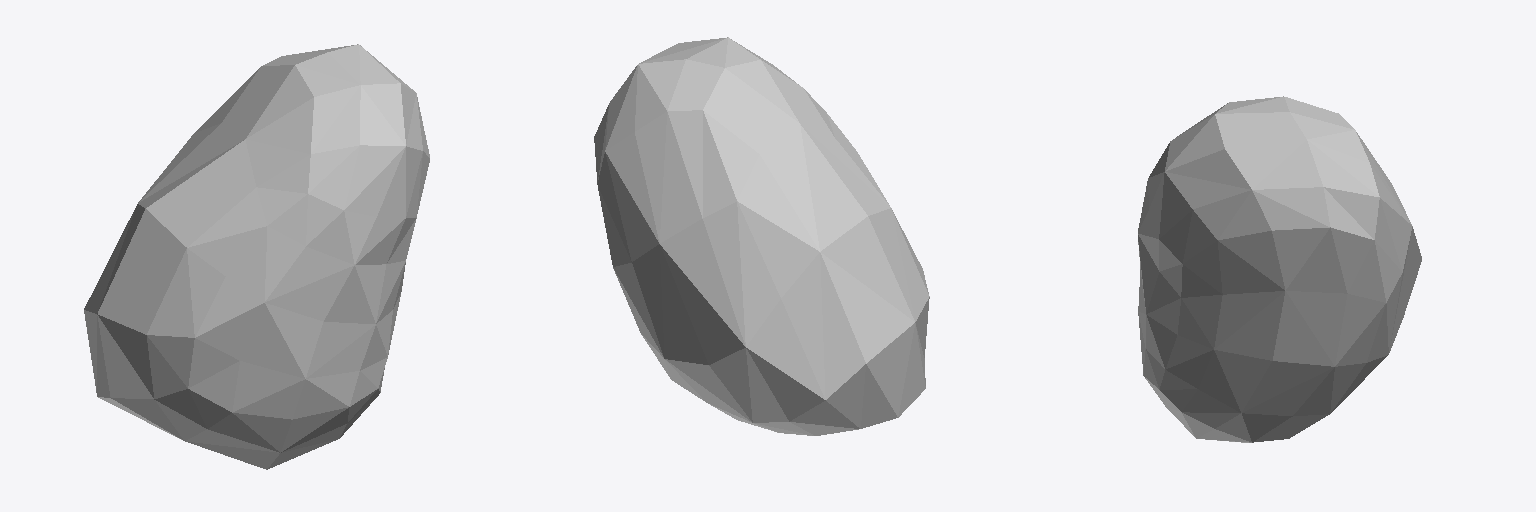
File: rock3.obj
3 renders of one model, left to right at view 1: azimuth 30°, elevation 25°; view 2: azimuth 150°, elevation 25°; view 3: azimuth 270°, elevation 25°, orthographic.
Parts seen in each view (by area): view 1: [Imported]_obj5_obj5; view 2: [Imported]_obj5_obj5; view 3: [Imported]_obj5_obj5.
Boxes of the visible parts, box(x1,y1,x2,y2) form: [Imported]_obj5_obj5: box(84, 44, 429, 469); [Imported]_obj5_obj5: box(594, 37, 929, 435); [Imported]_obj5_obj5: box(1138, 96, 1421, 442).
Size of the model in its own units: 6.97 by 7.89 by 5.61.